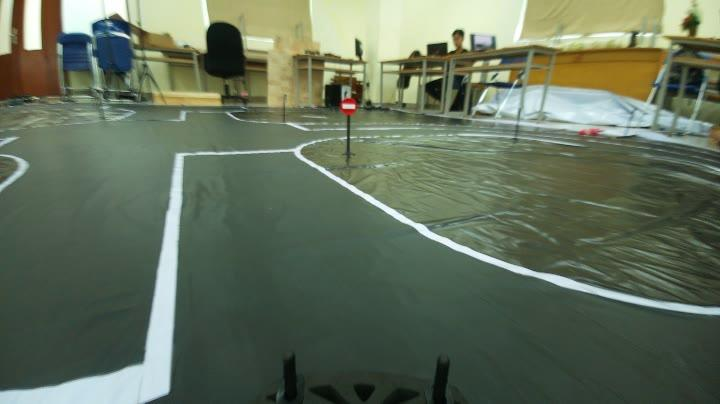no_entry: (336, 95, 364, 118)
